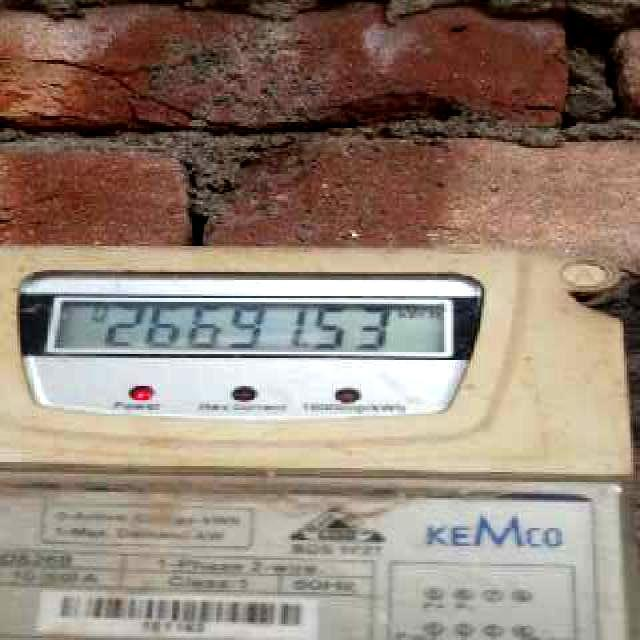LCD: (40, 289, 461, 364)
